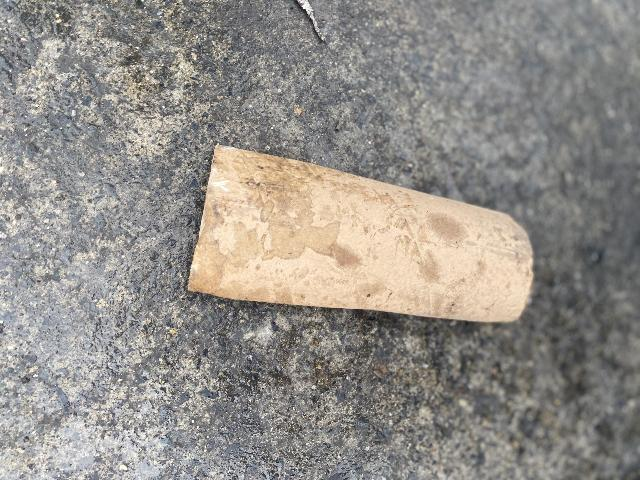Kagit: (186, 144, 535, 325)
